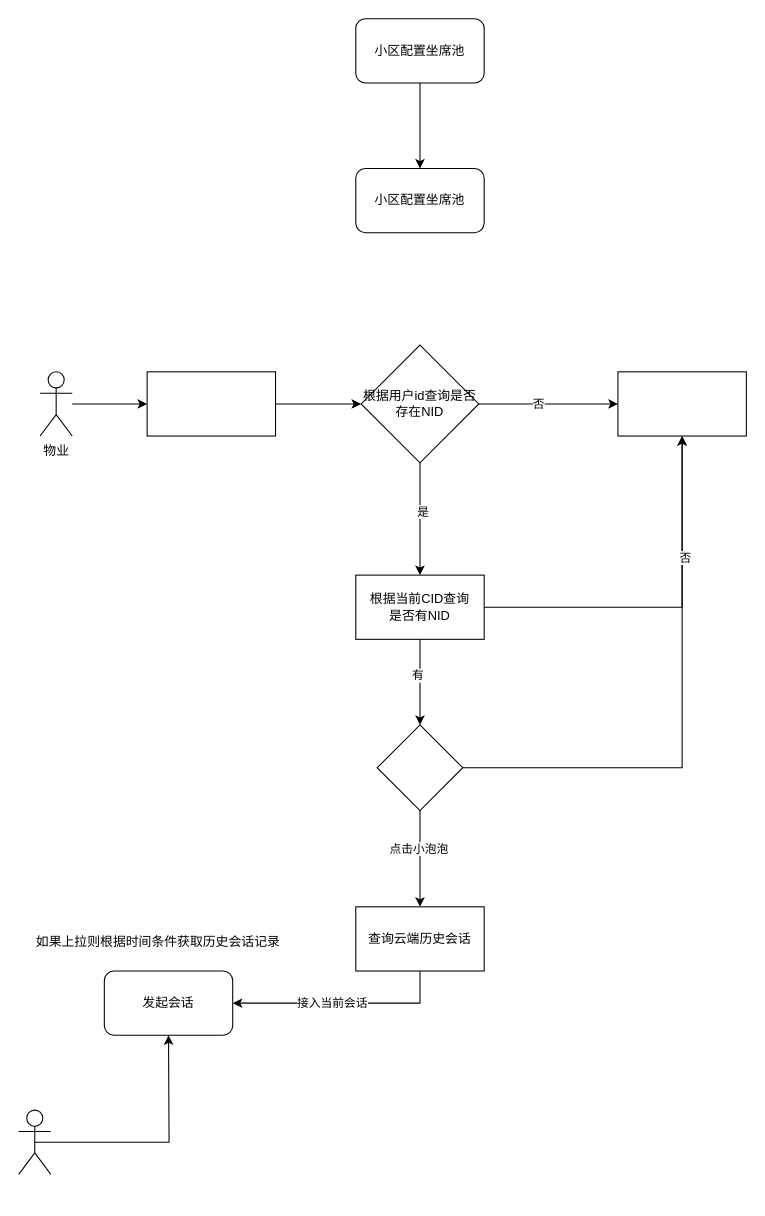
This 765x1216 diagram has some shape labels left out. The centre of each missing label's shape, as x and y in pixels:
"业主" goes at (34,1141).
"小慧管家登录" goes at (211,403).
"展示小泡泡按钮" goes at (419,767).
"首页" goes at (681,403).
